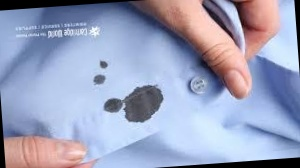ink: (123, 85, 164, 123), (103, 99, 121, 112), (93, 75, 105, 85), (100, 61, 108, 68)
